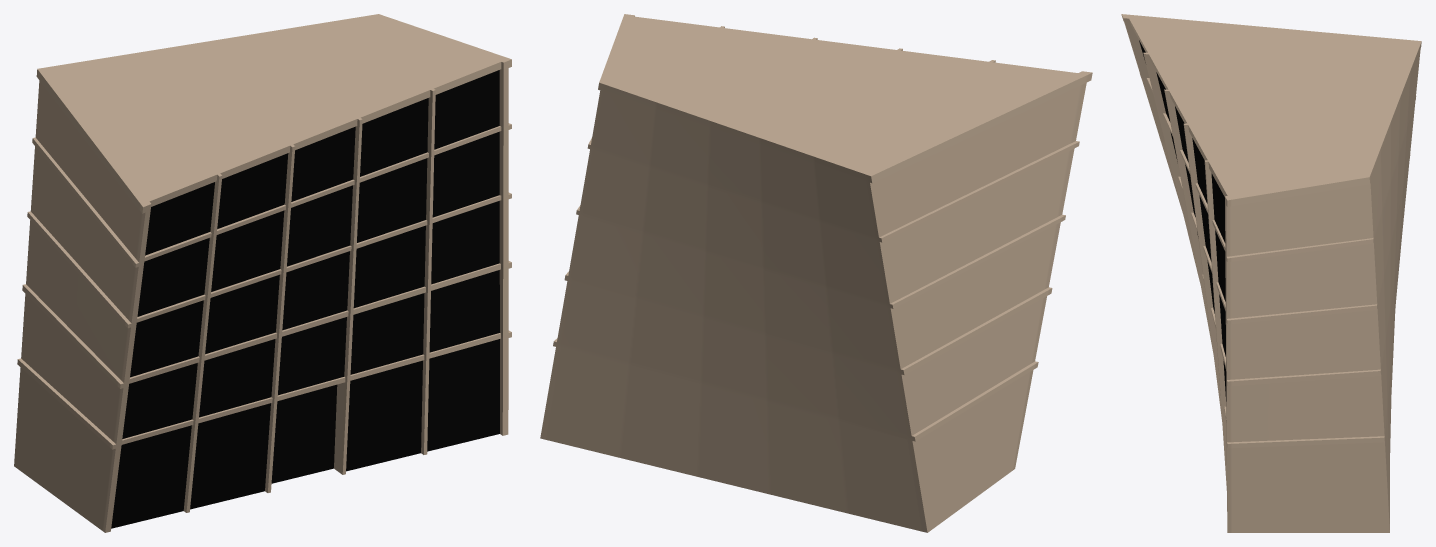
The model's file is Building01.fbx.
3 renders of one model, left to right at view 1: azimuth 30°, elevation 25°; view 2: azimuth 150°, elevation 25°; view 3: azimuth 270°, elevation 25°, orthographic. The views are drawn at different scales.
Visible parts, largest first — view 1: Building01; view 2: Building01; view 3: Building01.
Boxes of the visible parts, x1,y1,x2,y2 form: Building01: [14, 14, 511, 532]; Building01: [540, 14, 1092, 532]; Building01: [1121, 14, 1421, 532].
Size of the model in its own units: 797 by 666 by 543.
1 material, 1 textured.
